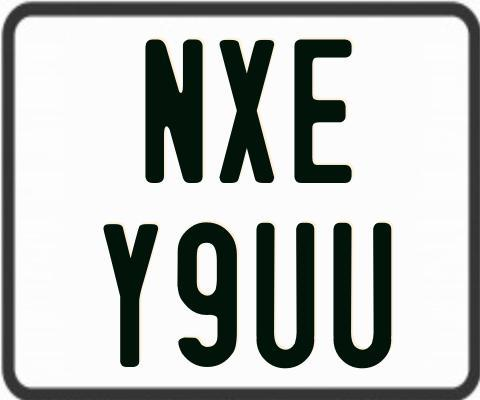9: (175, 219, 240, 369)
E: (294, 39, 358, 184)
N: (145, 36, 208, 184)
U: (330, 223, 391, 369), (256, 220, 315, 368)
X: (220, 39, 278, 187)
Y: (101, 224, 160, 372)
